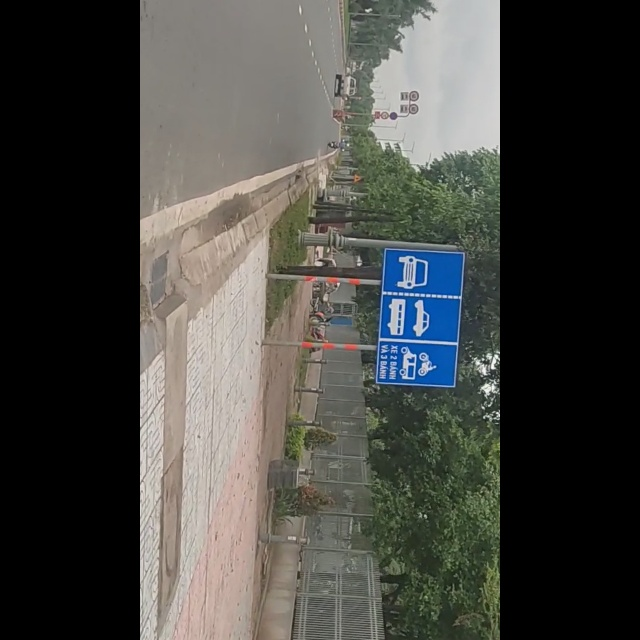bien_chi_dan: (424, 241, 577, 389)
